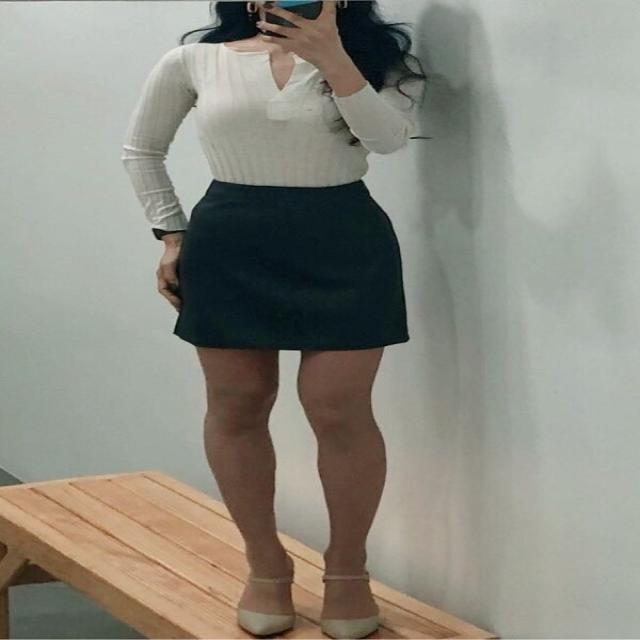longsleeve: (119, 36, 422, 233)
skirt: (169, 178, 413, 354)
